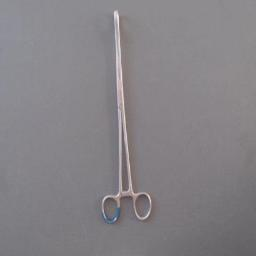Sponge Forceps: (99, 5, 157, 229)
